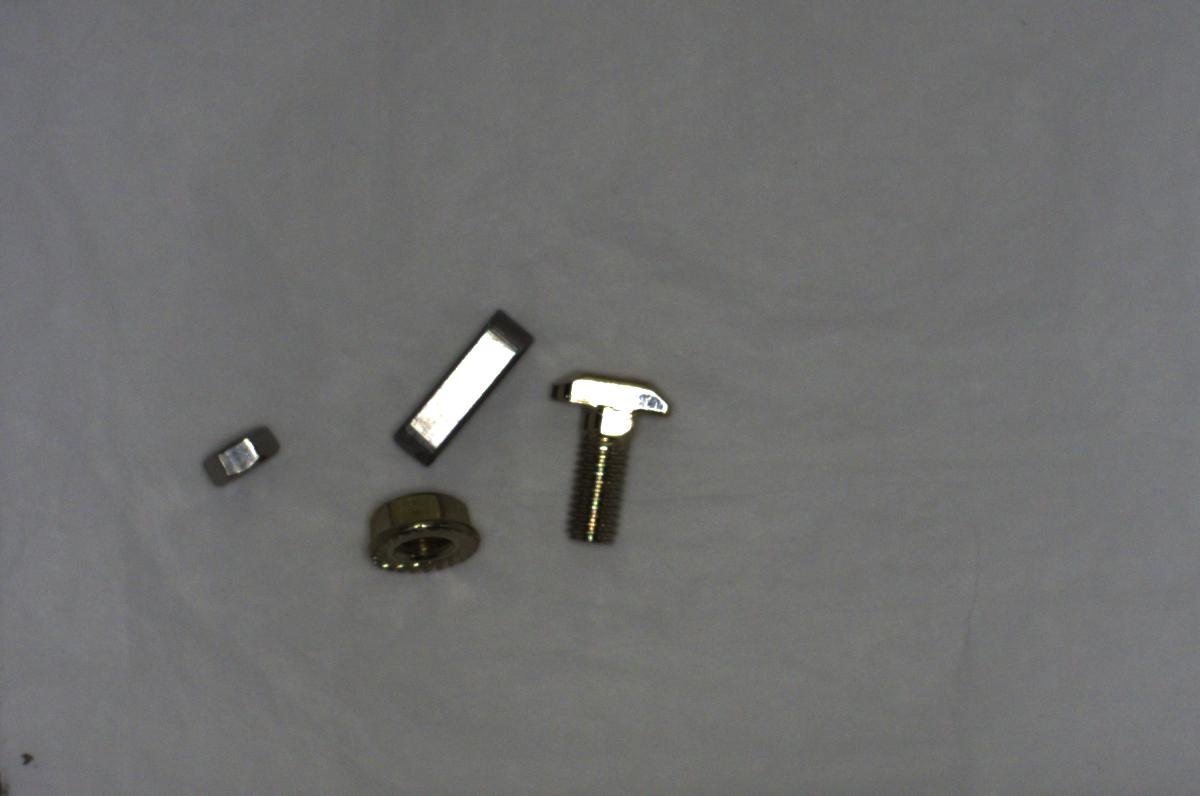Flange nut: (360, 485, 484, 585)
Hexagon nut: (195, 415, 292, 489)
Keybar: (385, 305, 540, 462)
T-shaped screw: (546, 365, 672, 554)
